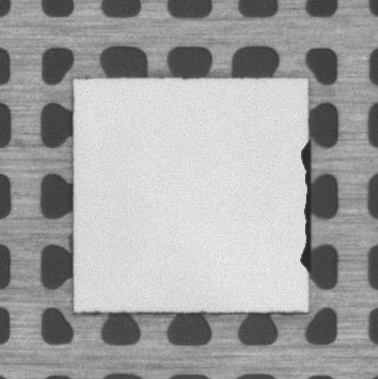DIE_BROKEN: (297, 142, 313, 273)
